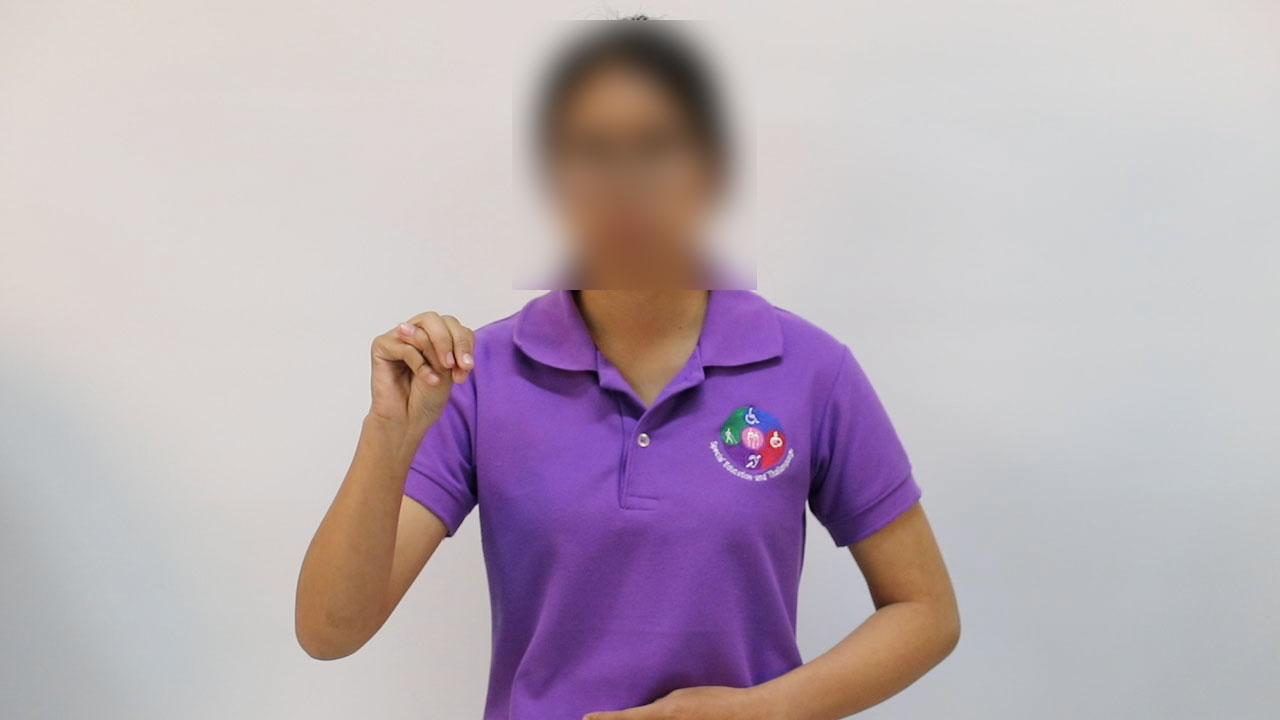mor: (354, 291, 481, 458)
